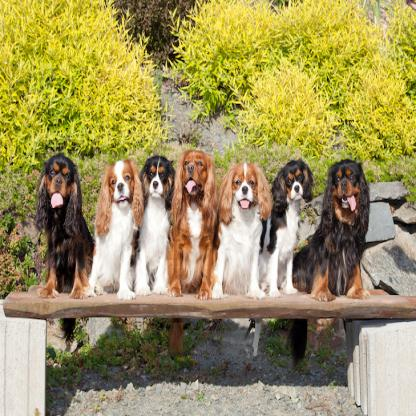Cavalier King Charles Spaniel: (292, 119, 380, 307), (158, 138, 224, 308), (77, 141, 142, 307), (33, 153, 94, 306), (206, 154, 265, 312), (127, 128, 175, 314), (255, 143, 314, 292)
